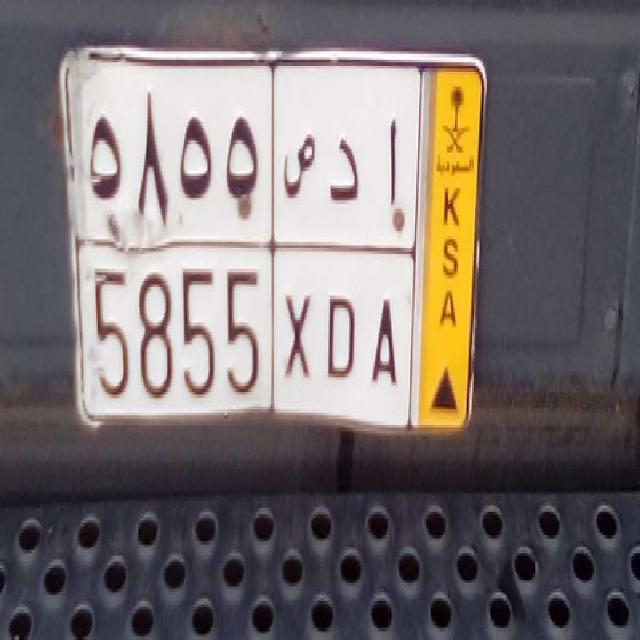license_plate: (74, 238, 412, 440)
